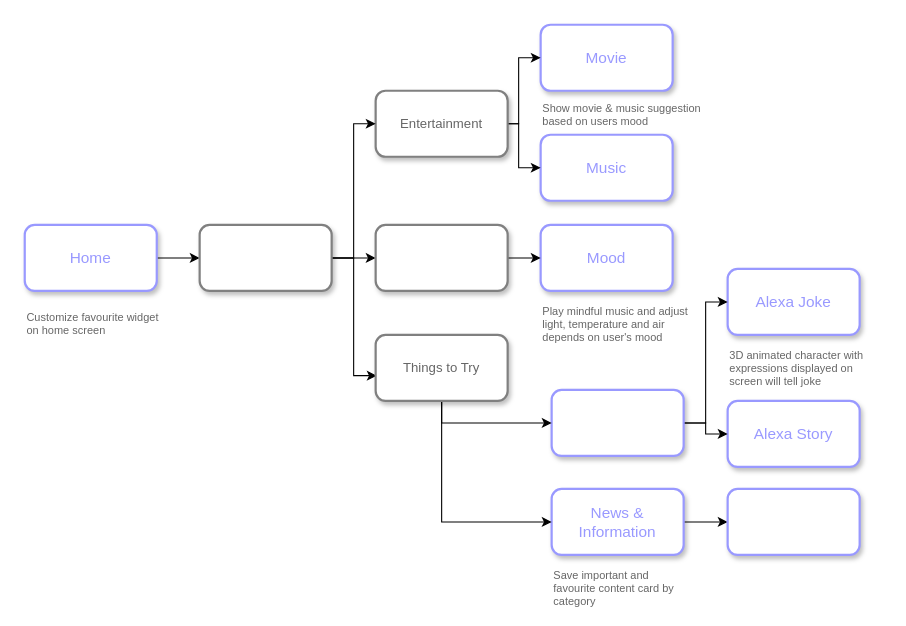
Some shapes in this 906 by 626 pixel diagram are drawn without their labels. Here are the shapes that lost their labels. From the top down, the centre of each, then its label:
At point (266, 259): "More".
At point (442, 259): "Routine".
At point (618, 424): "Fun with Alexa".
At point (794, 523): "Article".
